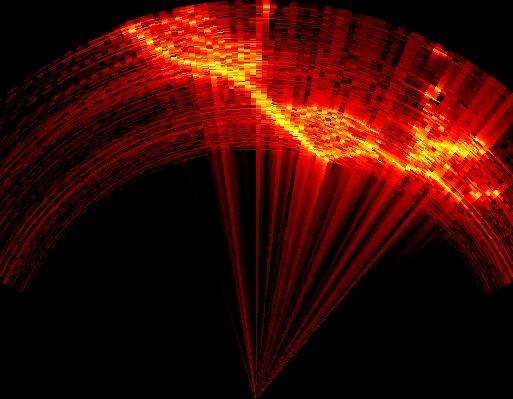shipwreck: (122, 22, 502, 201), (160, 7, 198, 32), (425, 86, 440, 99)
